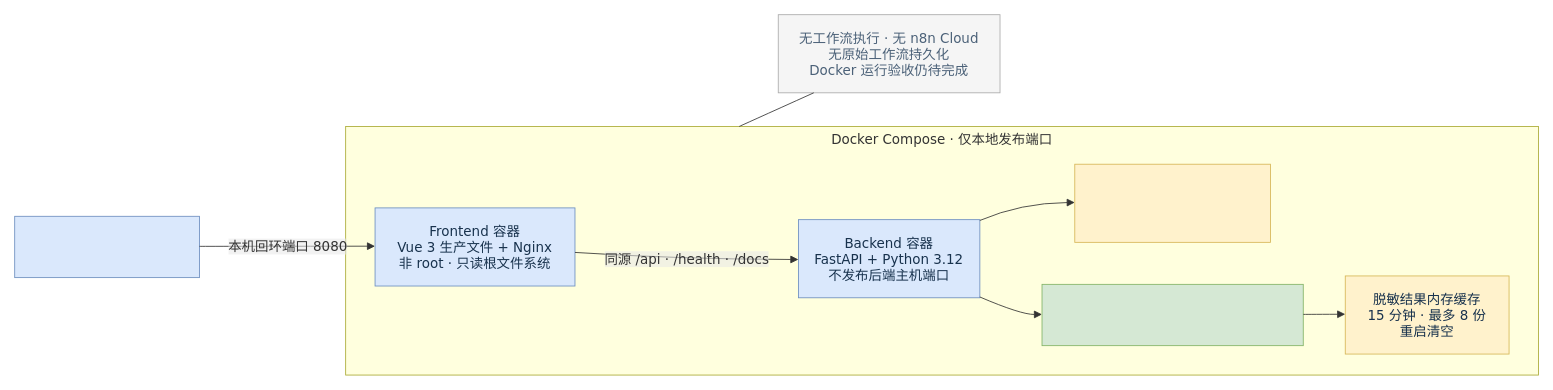
Image size: 1553x390. Some labels were removed from this diagram. Each missing label, with the box of its shape:
上传临时空间 /tmp 受限 tmpfs · 请求后关闭 容器删除不保留: (1074, 163, 1270, 242)
本机浏览器 http://127.0.0.1:8080: (14, 215, 200, 278)
现有诊断引擎 Parser · NetworkX · Rules · Reports: (1041, 284, 1303, 346)
